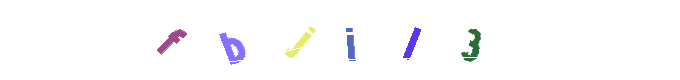3: (433, 0, 513, 80)
B: (200, 0, 280, 80)
F: (146, 0, 226, 80)
I: (300, 0, 380, 80)
J: (268, 0, 348, 80)
L: (345, 0, 425, 80)
